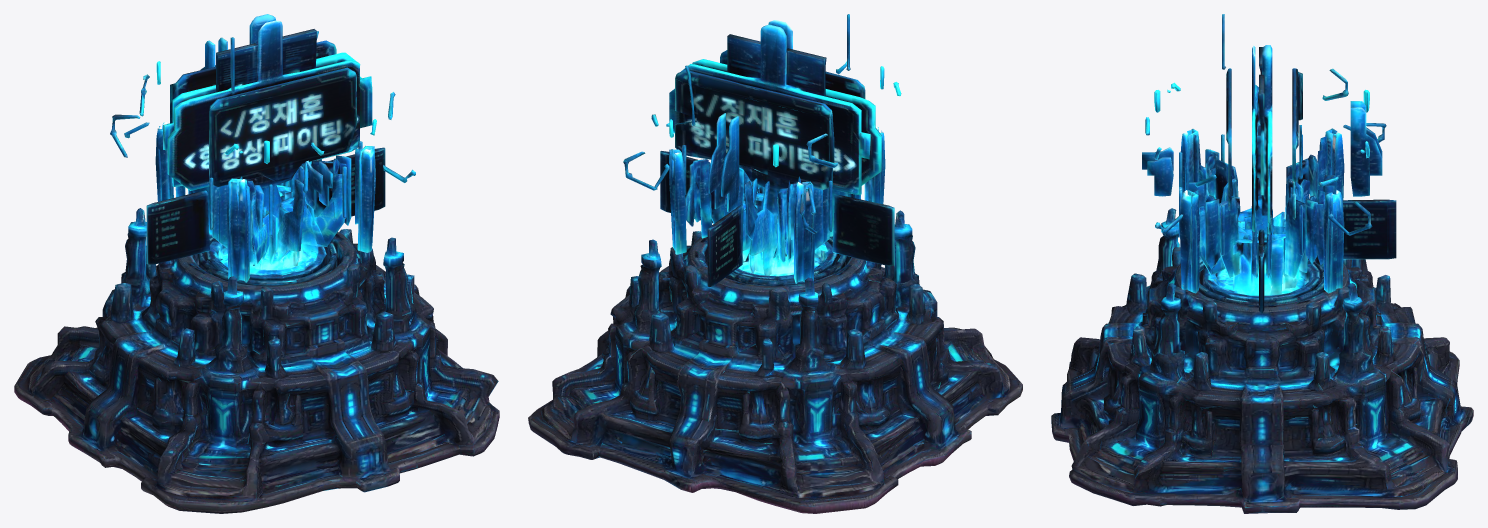
Rendered from statue.glb.
3 views of the same model, side by side, from view 1: azimuth 30°, elevation 25°; view 2: azimuth 150°, elevation 25°; view 3: azimuth 270°, elevation 25° (orthographic). The views are drawn at different scales.
Bounding box in the file's own units: 1.83 × 1.91 × 1.88.
Materials: 1 (1 with a texture image).
